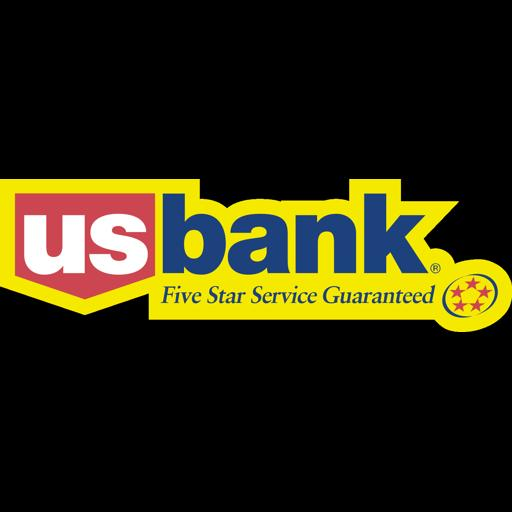U-S- Bank: (0, 179, 512, 332)
